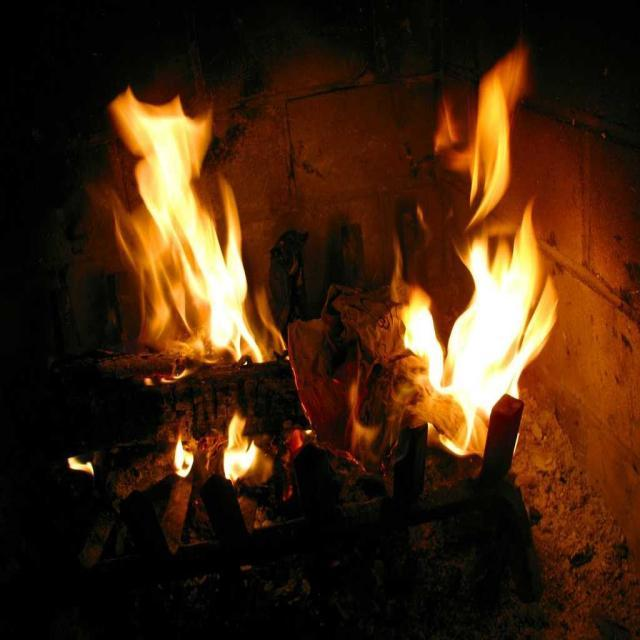Fire: (107, 95, 270, 361), (400, 190, 557, 428)
